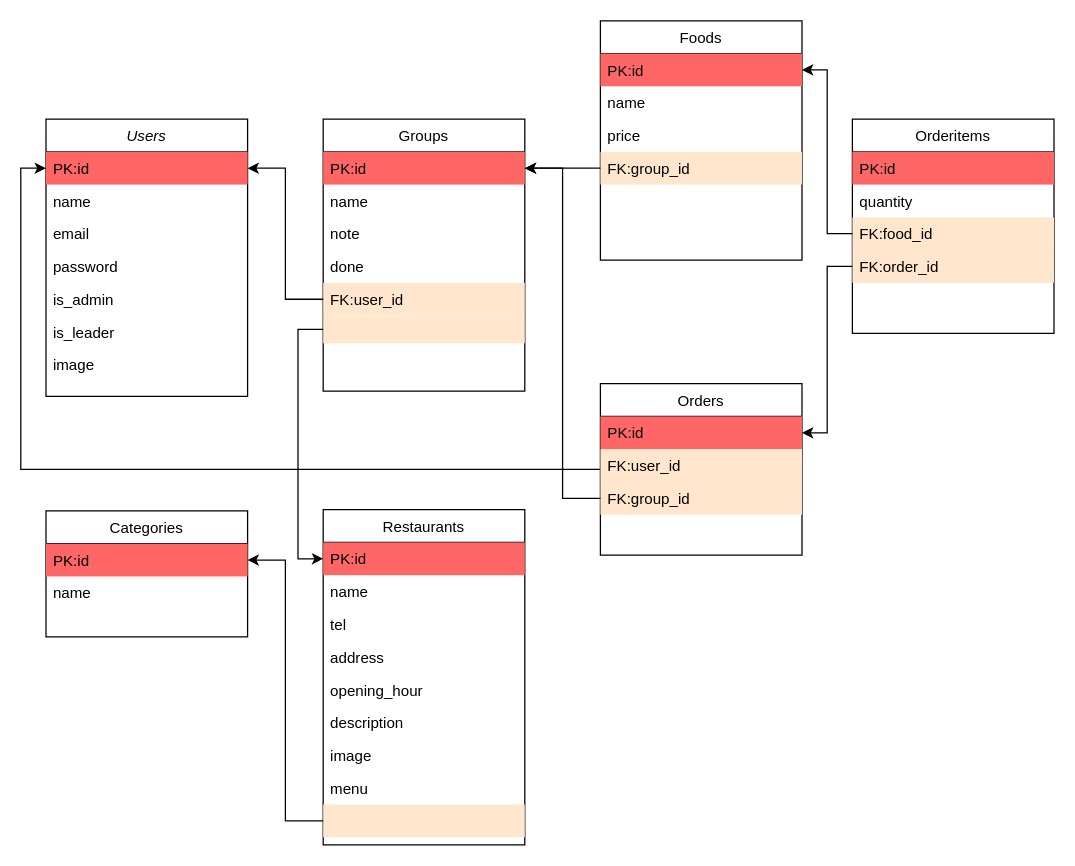
The diagram is 1075 pixels wide and 866 high, and some of its shapes have lost their labels. Here are the shapes that lost their labels. From the top down, the centre of each, then its label:
At point (423, 329): "FK:restaruant_id".
At point (423, 820): "FK:category_id".
